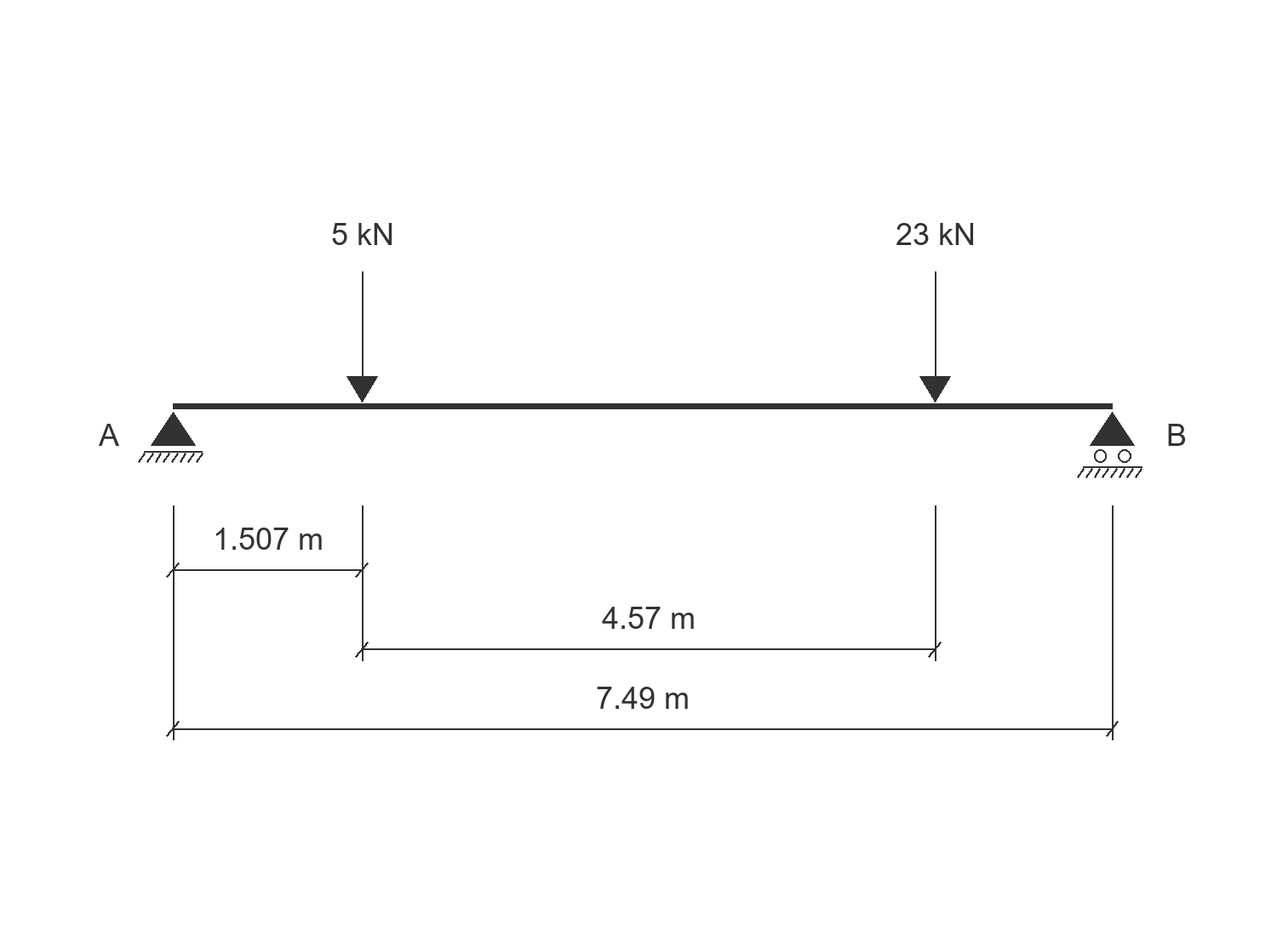pin_support: (138, 412, 203, 463)
point_load: (346, 271, 378, 402), (919, 271, 951, 402)
roller_support: (1077, 412, 1142, 478)
